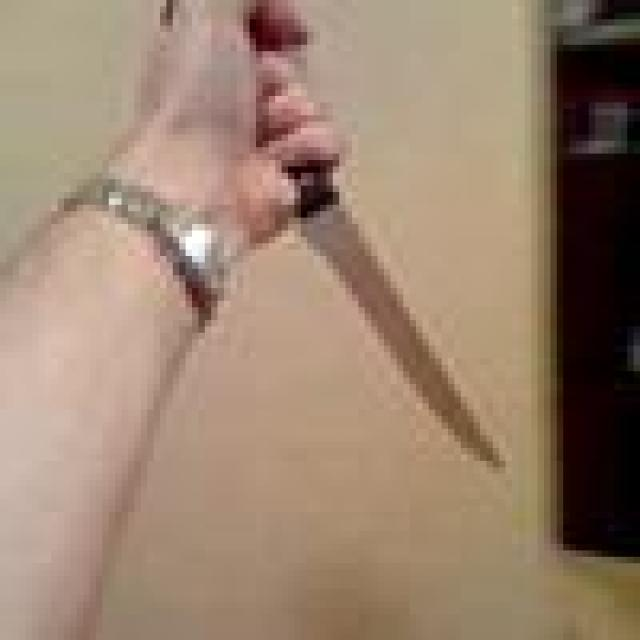weapon: (147, 0, 531, 493)
